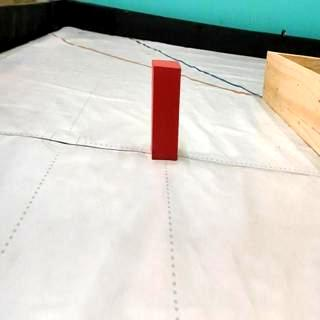redbox: (152, 58, 182, 161)
